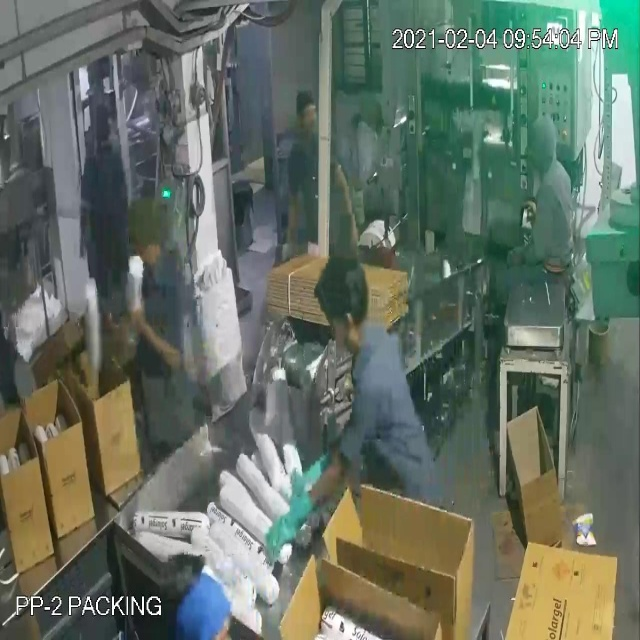Guantes: (254, 497, 324, 570)
Sin_guantes: (125, 279, 186, 389), (332, 154, 364, 253), (286, 181, 304, 265)
